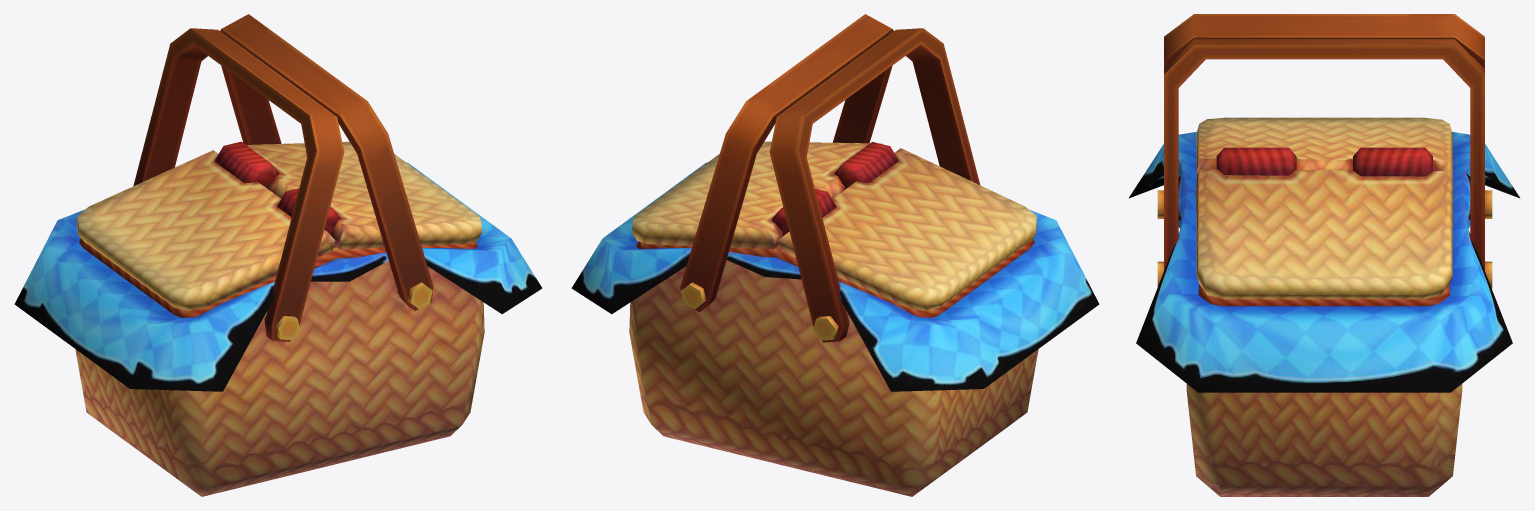
The model's file is SE_Basket_03_SM.FBX.
3 views of the same model, side by side, from view 1: azimuth 30°, elevation 25°; view 2: azimuth 150°, elevation 25°; view 3: azimuth 270°, elevation 25° (orthographic). The views are drawn at different scales.
Visible parts, largest first — view 1: SE_Basket_03_SM_LOD0; view 2: SE_Basket_03_SM_LOD0; view 3: SE_Basket_03_SM_LOD0.
Boxes of the visible parts, x1,y1,x2,y2 form: SE_Basket_03_SM_LOD0: (14, 14, 542, 496); SE_Basket_03_SM_LOD0: (571, 14, 1099, 496); SE_Basket_03_SM_LOD0: (1128, 14, 1520, 496).
Size of what is drawn, in the model's own units: 273 by 206 by 232.
